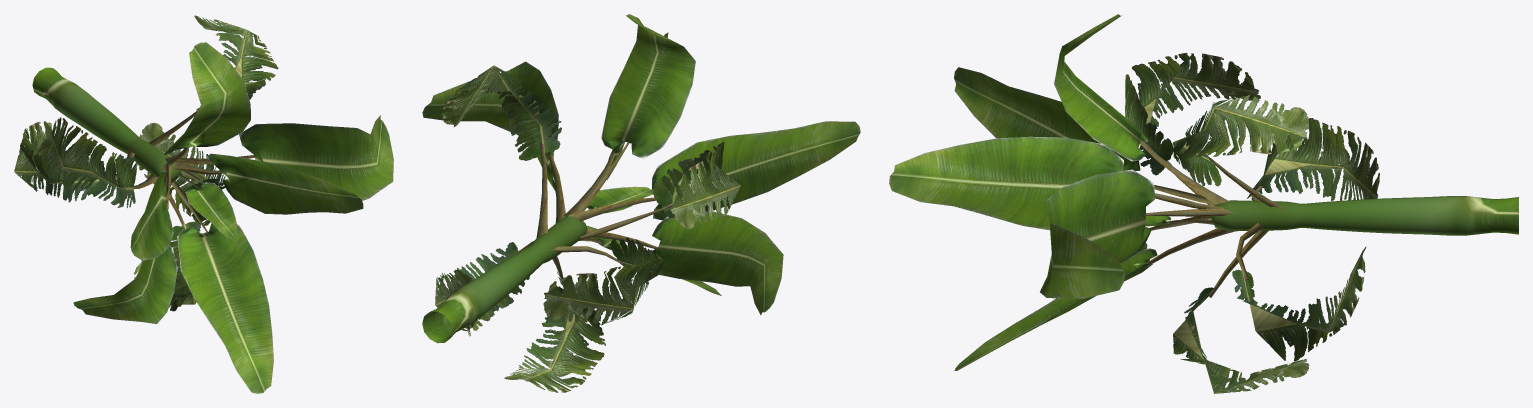
The model's file is banana.obj.
3 views of the same model, side by side, from view 1: azimuth 30°, elevation 25°; view 2: azimuth 150°, elevation 25°; view 3: azimuth 270°, elevation 25° (orthographic). The views are drawn at different scales.
Parts seen in each view (by area): view 1: BANANA_PALM.002_Mesh1_travelersBase_h.002, BANANA_PALM.004_Mesh1_travelersBase_h.012, BANANA_PALM_Mesh1_travelersBase_h, BANANA_PALM.005_Mesh1_travelersBase_h.005, BANANA_PALM.001_Mesh1_travelersBase_h.001, base_Mesh16_Trunk_Palm.000, BANANA_PALM.006_Mesh1_travelersBase_h.006, BANANA_PALM.007_Mesh1_travelersBase_h.007, BANANA_PALM.011_Mesh1_travelersBase_h.011, BANANA_PALM.003_Mesh1_travelersBase_h.003, BANANA_PALM.010_Mesh1_travelersBase_h.010, BANANA_PALM.009_Mesh1_travelersBase_h.009 (+1 smaller); view 2: BANANA_PALM.005_Mesh1_travelersBase_h.005, BANANA_PALM.006_Mesh1_travelersBase_h.006, BANANA_PALM.003_Mesh1_travelersBase_h.003, BANANA_PALM.011_Mesh1_travelersBase_h.011, base_Mesh16_Trunk_Palm.000, BANANA_PALM.007_Mesh1_travelersBase_h.007, BANANA_PALM.001_Mesh1_travelersBase_h.001, BANANA_PALM.008_Mesh1_travelersBase_h.008, BANANA_PALM.004_Mesh1_travelersBase_h.012, BANANA_PALM.010_Mesh1_travelersBase_h.010, BANANA_PALM.009_Mesh1_travelersBase_h.009, BANANA_PALM_Mesh1_travelersBase_h (+1 smaller); view 3: BANANA_PALM_Mesh1_travelersBase_h, BANANA_PALM.004_Mesh1_travelersBase_h.012, base_Mesh16_Trunk_Palm.000, BANANA_PALM.007_Mesh1_travelersBase_h.007, BANANA_PALM.001_Mesh1_travelersBase_h.001, BANANA_PALM.003_Mesh1_travelersBase_h.003, BANANA_PALM.011_Mesh1_travelersBase_h.011, BANANA_PALM.010_Mesh1_travelersBase_h.010, BANANA_PALM.005_Mesh1_travelersBase_h.005, BANANA_PALM.008_Mesh1_travelersBase_h.008, BANANA_PALM.002_Mesh1_travelersBase_h.002.
Boxes of the visible parts, left/top/right/bottom form: BANANA_PALM.002_Mesh1_travelersBase_h.002: left=171, top=181, right=273, bottom=393; BANANA_PALM.004_Mesh1_travelersBase_h.012: left=178, top=115, right=393, bottom=200; BANANA_PALM_Mesh1_travelersBase_h: left=172, top=153, right=363, bottom=214; BANANA_PALM.005_Mesh1_travelersBase_h.005: left=163, top=42, right=250, bottom=165; BANANA_PALM.001_Mesh1_travelersBase_h.001: left=37, top=117, right=157, bottom=207; base_Mesh16_Trunk_Palm.000: left=32, top=67, right=181, bottom=183; BANANA_PALM.006_Mesh1_travelersBase_h.006: left=73, top=195, right=177, bottom=324; BANANA_PALM.007_Mesh1_travelersBase_h.007: left=149, top=15, right=278, bottom=145; BANANA_PALM.011_Mesh1_travelersBase_h.011: left=14, top=121, right=134, bottom=202; BANANA_PALM.003_Mesh1_travelersBase_h.003: left=130, top=162, right=173, bottom=259; BANANA_PALM.010_Mesh1_travelersBase_h.010: left=137, top=122, right=225, bottom=225; BANANA_PALM.009_Mesh1_travelersBase_h.009: left=178, top=174, right=237, bottom=238; BANANA_PALM.005_Mesh1_travelersBase_h.005: left=571, top=14, right=695, bottom=218; BANANA_PALM.006_Mesh1_travelersBase_h.006: left=585, top=211, right=783, bottom=315; BANANA_PALM.003_Mesh1_travelersBase_h.003: left=568, top=121, right=860, bottom=221; BANANA_PALM.011_Mesh1_travelersBase_h.011: left=543, top=237, right=662, bottom=325; base_Mesh16_Trunk_Palm.000: left=422, top=214, right=587, bottom=343; BANANA_PALM.007_Mesh1_travelersBase_h.007: left=441, top=65, right=561, bottom=238; BANANA_PALM.001_Mesh1_travelersBase_h.001: left=579, top=141, right=740, bottom=240; BANANA_PALM.008_Mesh1_travelersBase_h.008: left=504, top=256, right=605, bottom=392; BANANA_PALM.004_Mesh1_travelersBase_h.012: left=422, top=61, right=565, bottom=223; BANANA_PALM.010_Mesh1_travelersBase_h.010: left=435, top=241, right=533, bottom=336; BANANA_PALM.009_Mesh1_travelersBase_h.009: left=580, top=186, right=653, bottom=213; BANANA_PALM_Mesh1_travelersBase_h: left=564, top=32, right=668, bottom=216; BANANA_PALM_Mesh1_travelersBase_h: left=889, top=136, right=1223, bottom=230; BANANA_PALM.004_Mesh1_travelersBase_h.012: left=1040, top=169, right=1237, bottom=298; base_Mesh16_Trunk_Palm.000: left=1210, top=196, right=1518, bottom=235; BANANA_PALM.007_Mesh1_travelersBase_h.007: left=1173, top=95, right=1309, bottom=209; BANANA_PALM.001_Mesh1_travelersBase_h.001: left=1125, top=53, right=1260, bottom=205; BANANA_PALM.003_Mesh1_travelersBase_h.003: left=954, top=67, right=1222, bottom=206; BANANA_PALM.011_Mesh1_travelersBase_h.011: left=1247, top=118, right=1379, bottom=201; BANANA_PALM.010_Mesh1_travelersBase_h.010: left=1232, top=223, right=1366, bottom=361; BANANA_PALM.005_Mesh1_travelersBase_h.005: left=1054, top=14, right=1229, bottom=205; BANANA_PALM.008_Mesh1_travelersBase_h.008: left=1173, top=230, right=1309, bottom=393; BANANA_PALM.002_Mesh1_travelersBase_h.002: left=954, top=228, right=1234, bottom=370.
Size of the model in its own units: 4.68 by 4.1 by 6.46.
